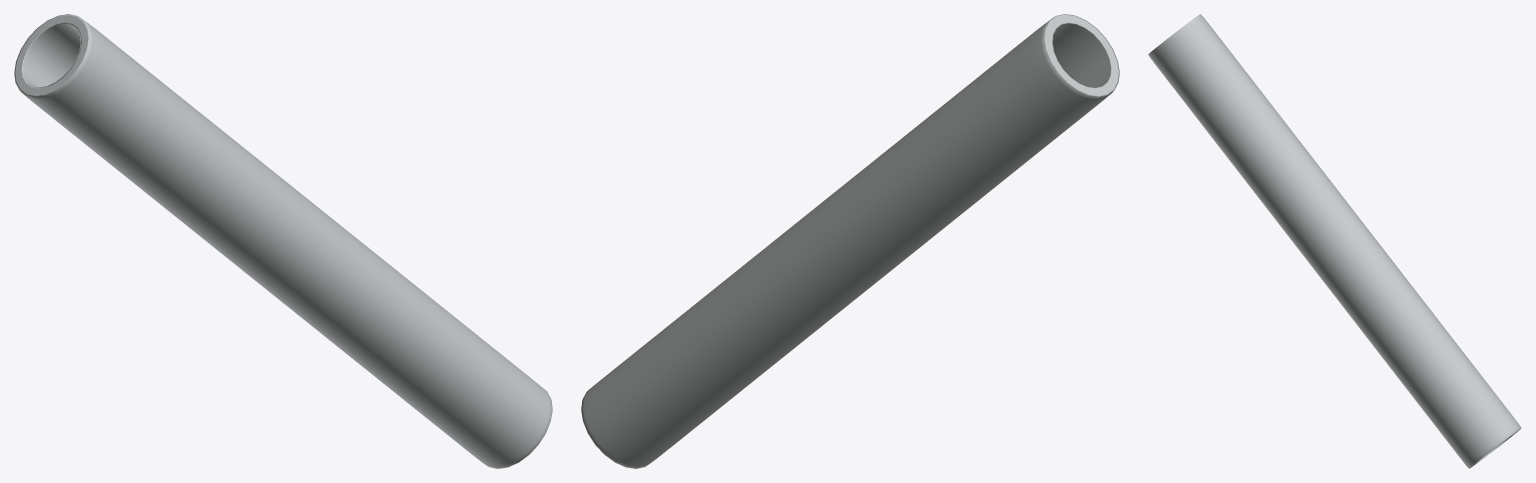
The picture shows the model from 3 angles, left to right: view 1: azimuth 30°, elevation 25°; view 2: azimuth 150°, elevation 25°; view 3: azimuth 330°, elevation 25°; orthographic projection. The views are drawn at different scales.
Visible parts, largest first — view 1: Pipe; view 2: Pipe; view 3: Pipe.
Part boxes in pixels (x1,y1,x2,y2): Pipe: (14,14,552,468); Pipe: (581,14,1119,468); Pipe: (1148,14,1521,468).
Size of the model in its own units: 15.99 by 15.99 by 2.58.
Materials: 1 (1 with a texture image).
